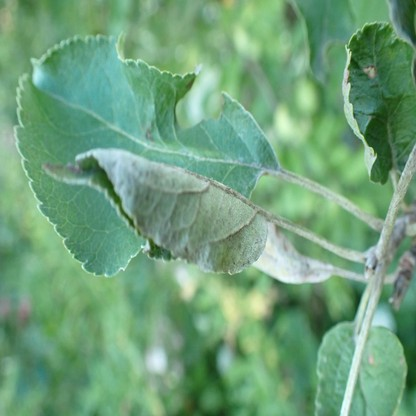powdery_mildew: (76, 148, 268, 274)
